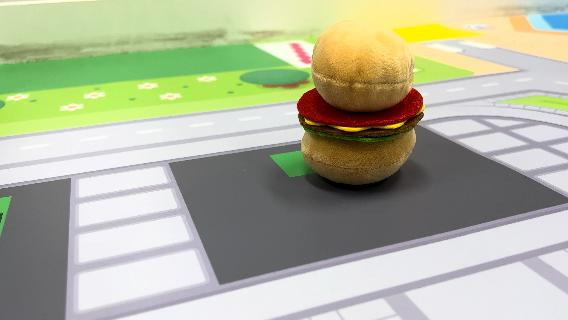burger: (294, 17, 428, 187)
